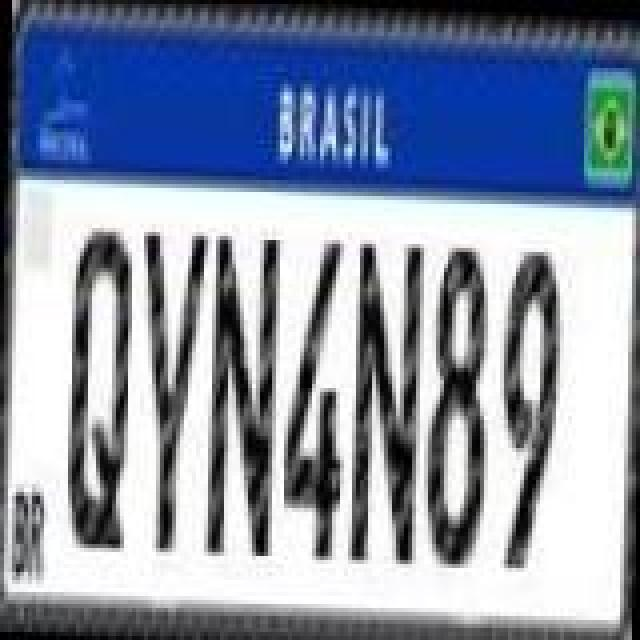4: (276, 228, 352, 556)
8: (416, 232, 492, 572)
9: (488, 232, 564, 572)
N: (202, 222, 282, 562), (346, 230, 426, 558)
Q: (60, 216, 136, 556)
Y: (130, 220, 210, 548)
